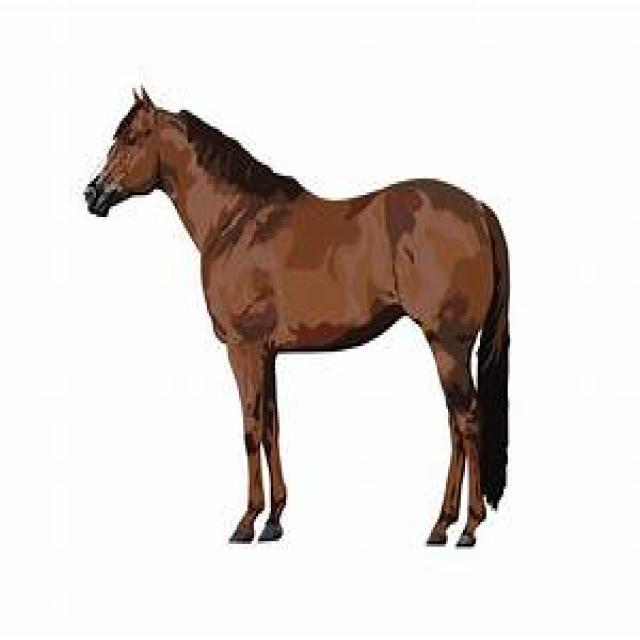animal: (81, 82, 510, 546)
